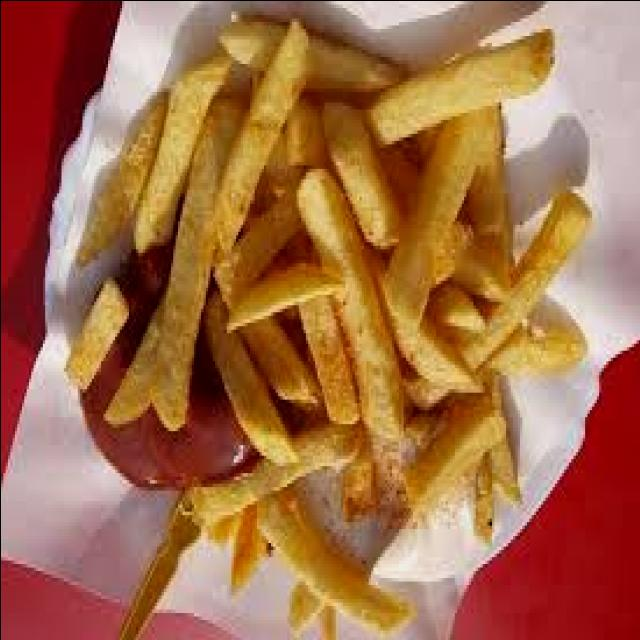kentang goreng: (65, 17, 589, 633)
